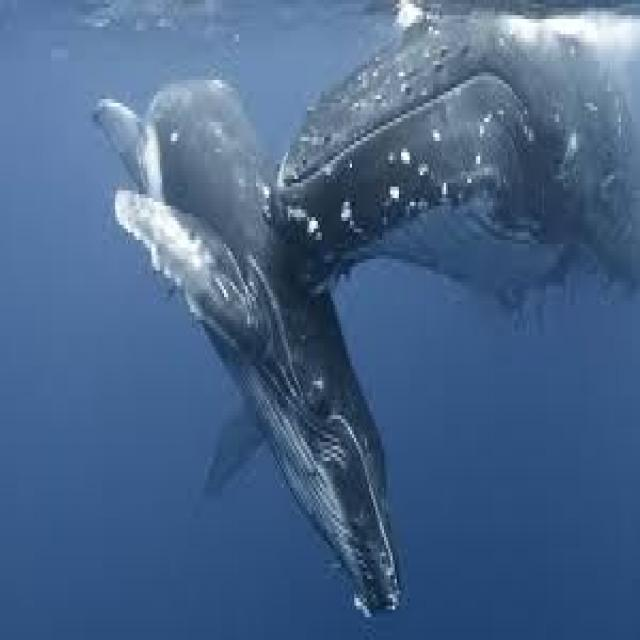blue_whale: (94, 65, 422, 640)
